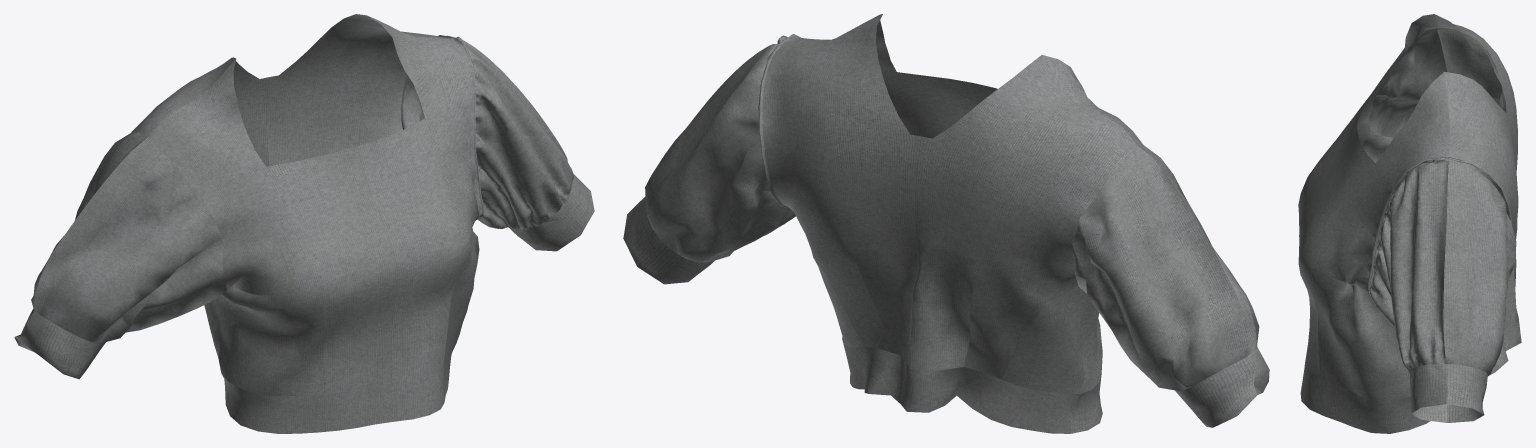
File: manual_out_seam.obj
The picture shows the model from 3 angles, left to right: view 1: azimuth 30°, elevation 25°; view 2: azimuth 150°, elevation 25°; view 3: azimuth 270°, elevation 25°; orthographic projection. The views are drawn at different scales.
Bounding box in the file's own units: 662 × 390 × 232.
